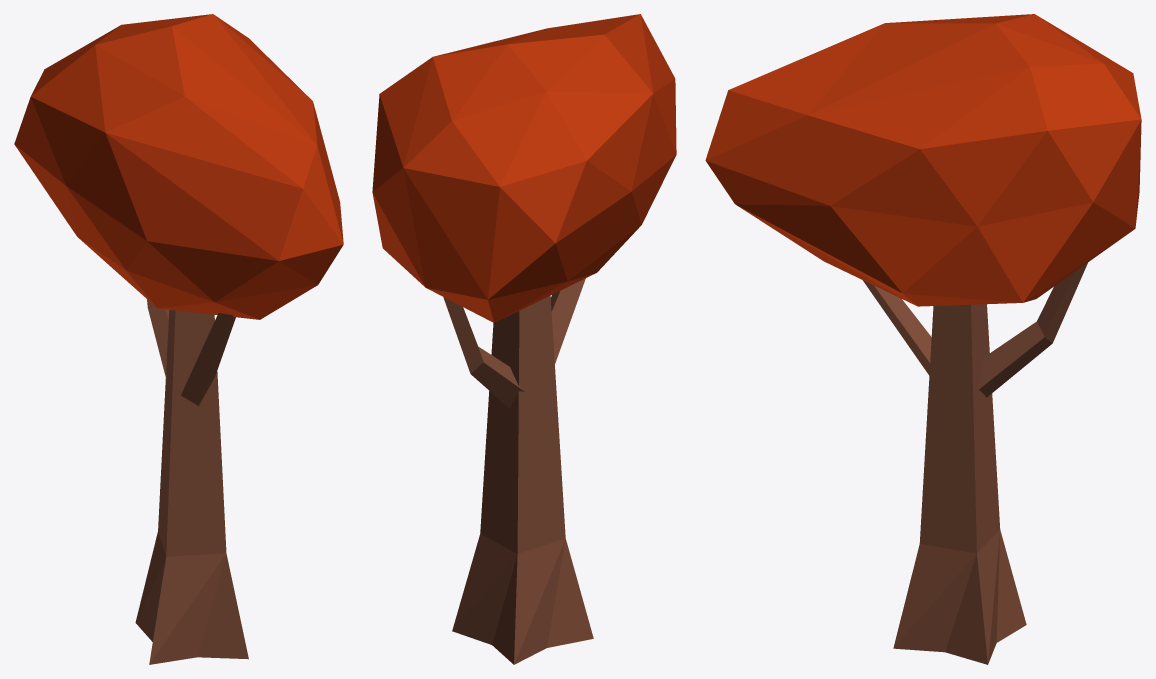
The model's file is Tree_37_summer_red_vc.fbx.
3 views of the same model, side by side, from view 1: azimuth 30°, elevation 25°; view 2: azimuth 150°, elevation 25°; view 3: azimuth 270°, elevation 25° (orthographic).
Parts seen in each view (by area): view 1: Tree_37_summer_red_vc; view 2: Tree_37_summer_red_vc; view 3: Tree_37_summer_red_vc.
Boxes of the visible parts, <box> form: Tree_37_summer_red_vc: <box>14,14,343,664</box>; Tree_37_summer_red_vc: <box>372,14,676,664</box>; Tree_37_summer_red_vc: <box>705,14,1141,664</box>.
Bounding box in the file's own units: 93.74 × 233 × 151.
